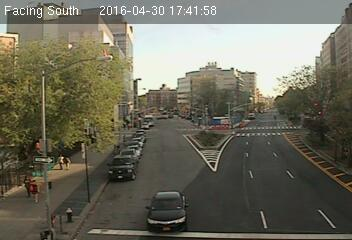neg: (205, 142, 230, 175), (42, 209, 63, 237), (62, 204, 78, 225), (182, 129, 193, 144), (240, 119, 251, 134)
pos: (25, 178, 45, 205), (53, 154, 66, 171), (63, 154, 75, 170)
